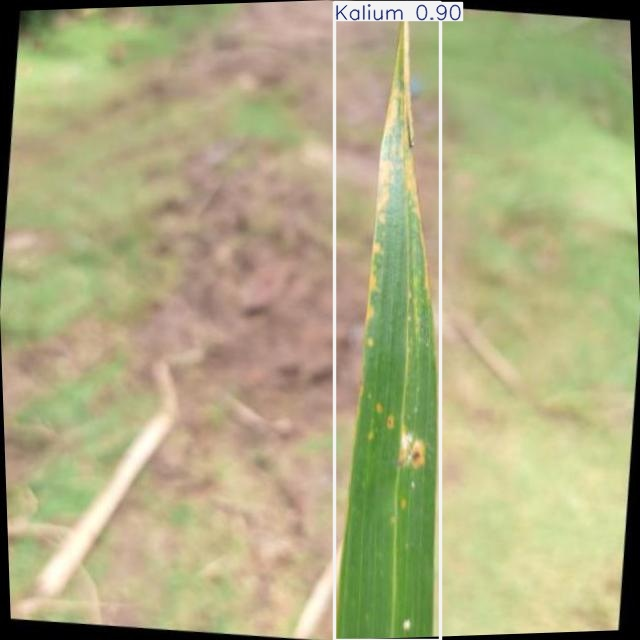Kalium: (334, 3, 441, 640)
